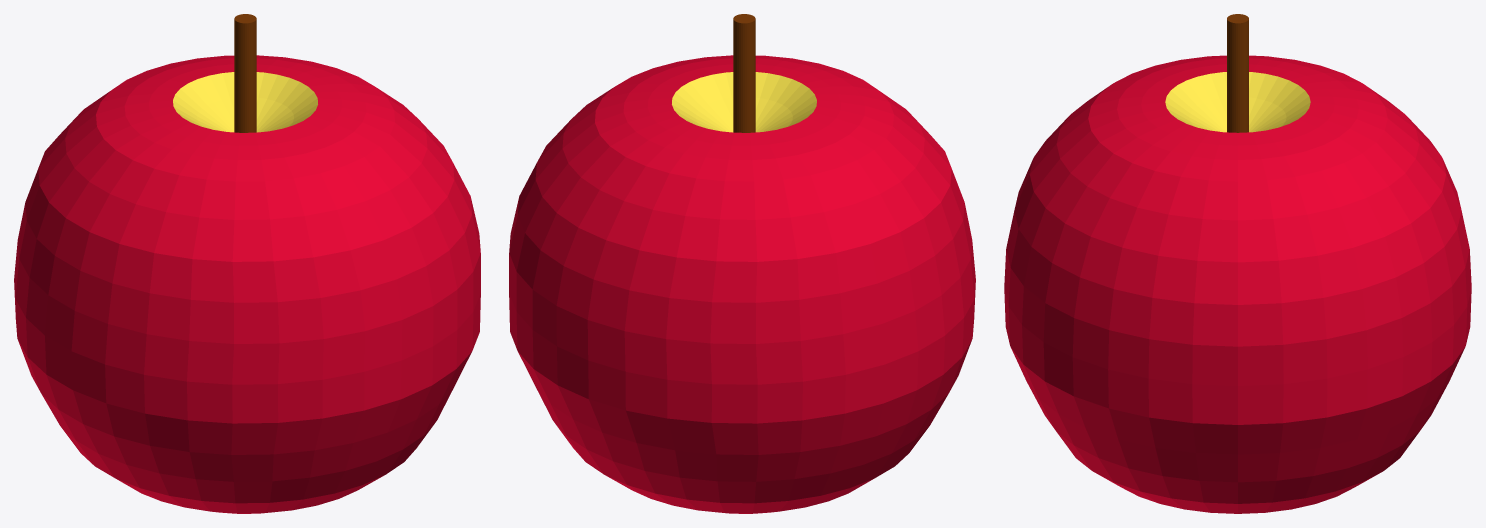
The model's file is Apple.fbx.
3 renders of one model, left to right at view 1: azimuth 30°, elevation 25°; view 2: azimuth 150°, elevation 25°; view 3: azimuth 270°, elevation 25°, orthographic.
Visible parts, largest first — view 1: 球; view 2: 球; view 3: 球.
Boxes of the visible parts, x1,y1,x2,y2 form: 球: (14,14,480,513); 球: (509,14,975,513); 球: (1004,14,1471,513).
Bounding box in the file's own units: 275 × 297 × 275.
